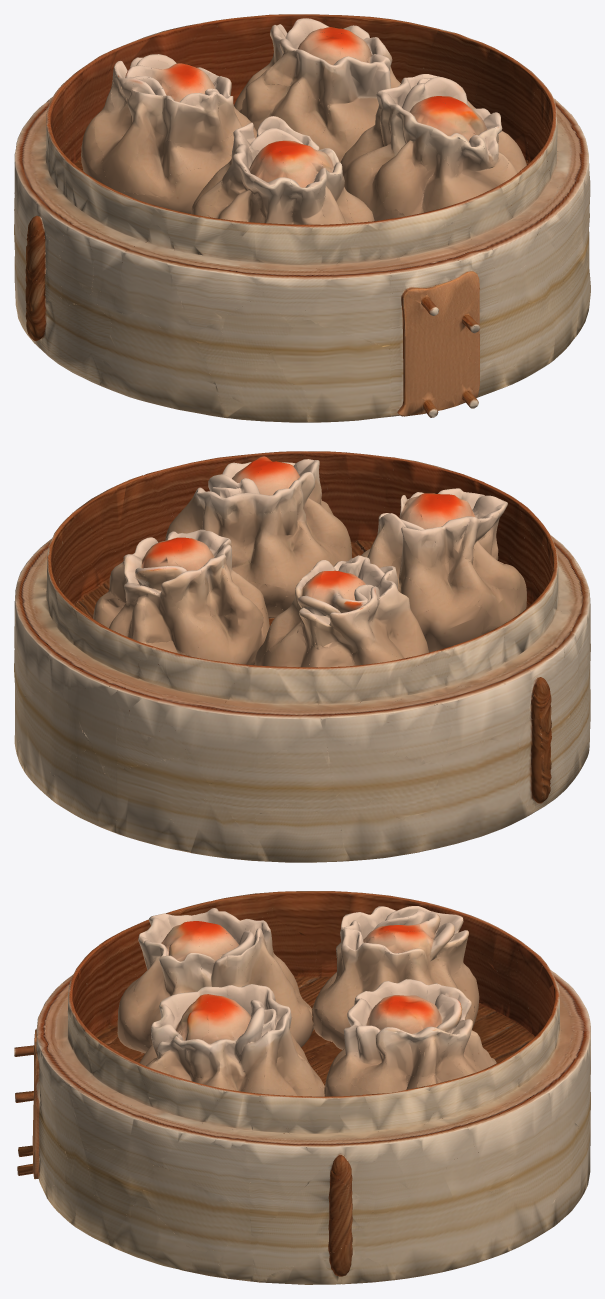
Rendered from dimsums.glb.
3 views of the same model, one above another, from view 1: azimuth 30°, elevation 25°; view 2: azimuth 150°, elevation 25°; view 3: azimuth 270°, elevation 25° (orthographic). The views are drawn at different scales.
Visible parts, largest first — view 1: mesh_node; view 2: mesh_node; view 3: mesh_node.
Boxes of the visible parts, x1,y1,x2,y2 form: mesh_node: (14, 14, 590, 422); mesh_node: (14, 451, 590, 862); mesh_node: (14, 891, 590, 1284).
Bounding box in the file's own units: 0.32 × 0.13 × 0.32.
Materials: 1 (1 with a texture image).
